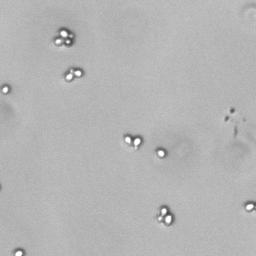budding: (153, 204, 178, 228), (61, 63, 86, 85), (120, 129, 145, 151)
cluster: (53, 26, 78, 48)
individual: (153, 144, 169, 161), (243, 199, 256, 213), (11, 244, 26, 256), (1, 82, 11, 96)
